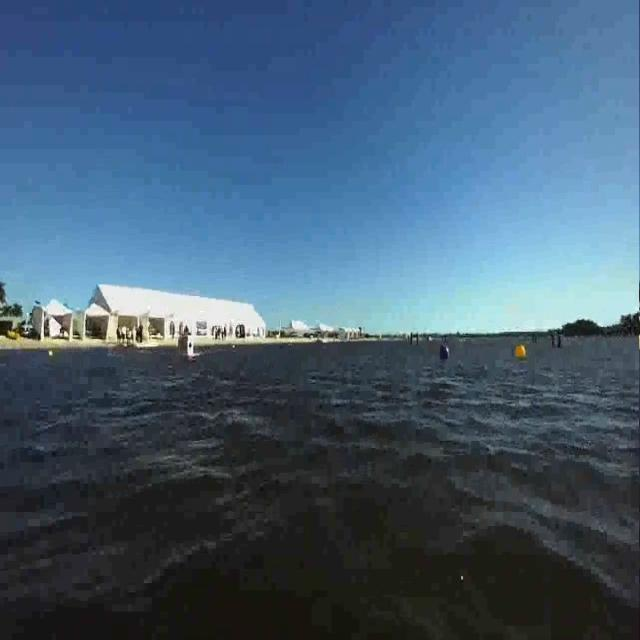blue-buoy: (440, 341, 450, 360)
yellow-buoy: (516, 342, 528, 360)
